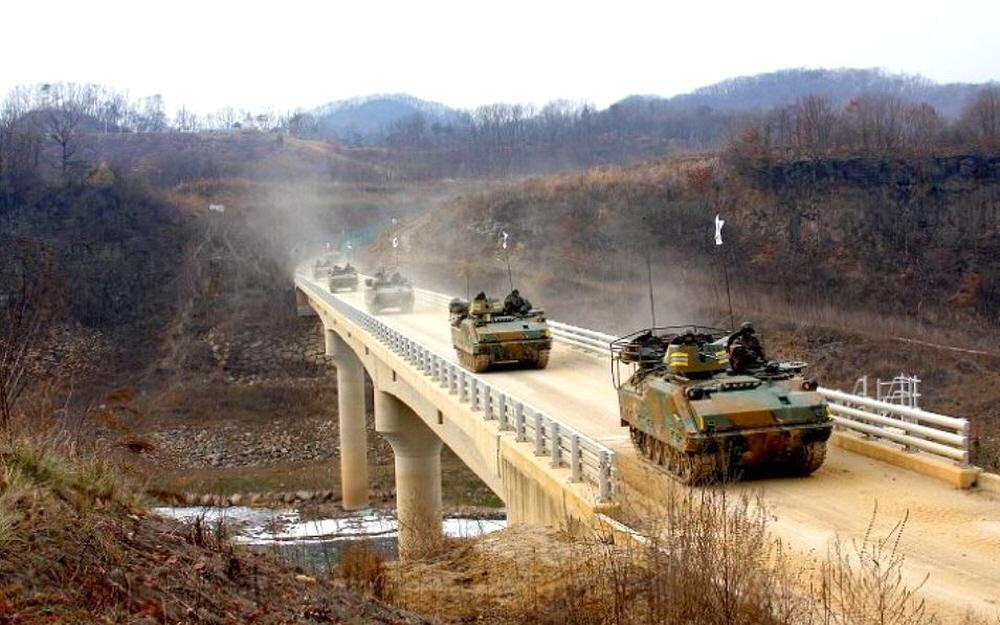MIL_IFV: (599, 318, 839, 485), (446, 288, 564, 373), (364, 272, 423, 312), (326, 264, 361, 296)
